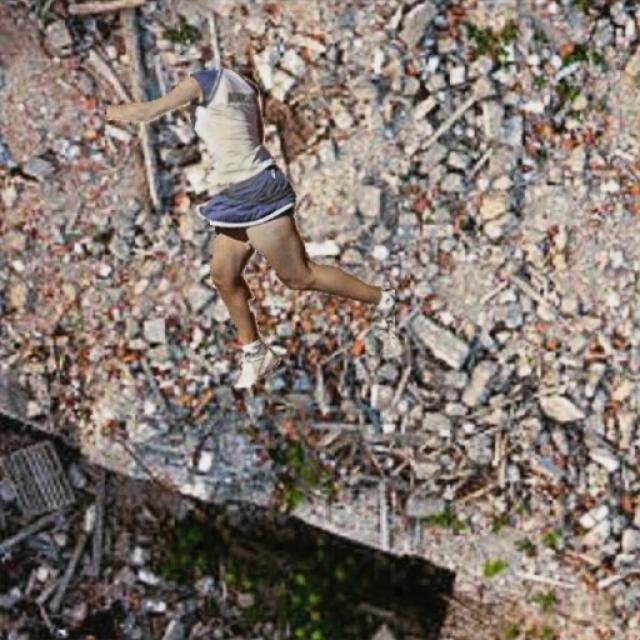Person in Rubble: (106, 66, 394, 386)
